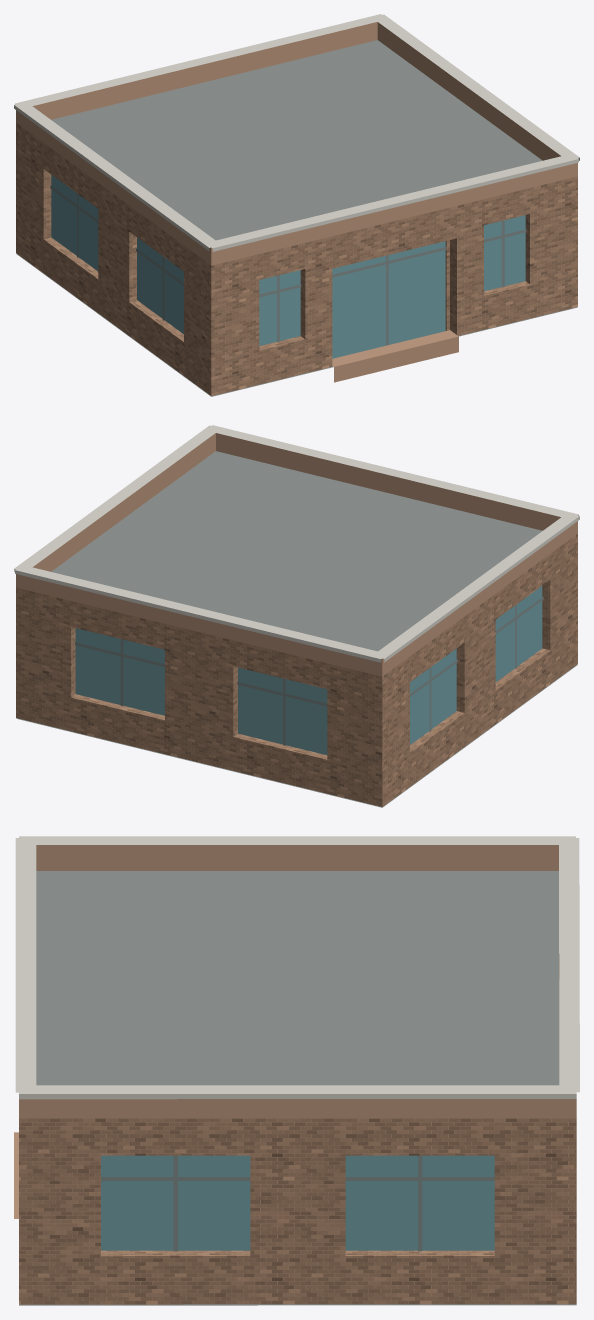
3 renders of one model, top to bottom at view 1: azimuth 30°, elevation 25°; view 2: azimuth 150°, elevation 25°; view 3: azimuth 270°, elevation 25°, orthographic. The views are drawn at different scales.
Parts seen in each view (by area): view 1: osm532894609__roof, osm532894609__wall, osm532894609__glass, osm532894609__parapet, osm532894609__trim, osm532894609__entranceThreshold_0, osm532894609__frame; view 2: osm532894609__wall, osm532894609__roof, osm532894609__parapet, osm532894609__glass, osm532894609__trim, osm532894609__frame; view 3: osm532894609__roof, osm532894609__wall, osm532894609__glass, osm532894609__parapet, osm532894609__trim, osm532894609__frame.
Boxes of the visible parts, <box> form: osm532894609__roof: <box>16,40,577,396</box>; osm532894609__wall: <box>16,123,577,396</box>; osm532894609__glass: <box>51,175,525,358</box>; osm532894609__parapet: <box>16,22,577,265</box>; osm532894609__trim: <box>14,14,579,251</box>; osm532894609__entranceThreshold_0: <box>332,330,458,382</box>; osm532894609__frame: <box>50,185,526,345</box>; osm532894609__wall: <box>16,534,577,806</box>; osm532894609__roof: <box>16,451,577,807</box>; osm532894609__parapet: <box>16,433,577,676</box>; osm532894609__glass: <box>75,586,542,754</box>; osm532894609__trim: <box>14,425,579,662</box>; osm532894609__frame: <box>75,596,543,745</box>; osm532894609__roof: <box>19,871,576,1305</box>; osm532894609__wall: <box>19,1118,576,1304</box>; osm532894609__glass: <box>101,1155,494,1250</box>; osm532894609__parapet: <box>19,845,576,1118</box>; osm532894609__trim: <box>15,836,579,1099</box>; osm532894609__frame: <box>101,1155,494,1251</box>.
Bounding box in the file's own units: 10.69 × 4.5 × 9.92.
Materials: 8 (1 with a texture image).
